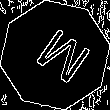M_SW: (22, 21, 88, 89)
